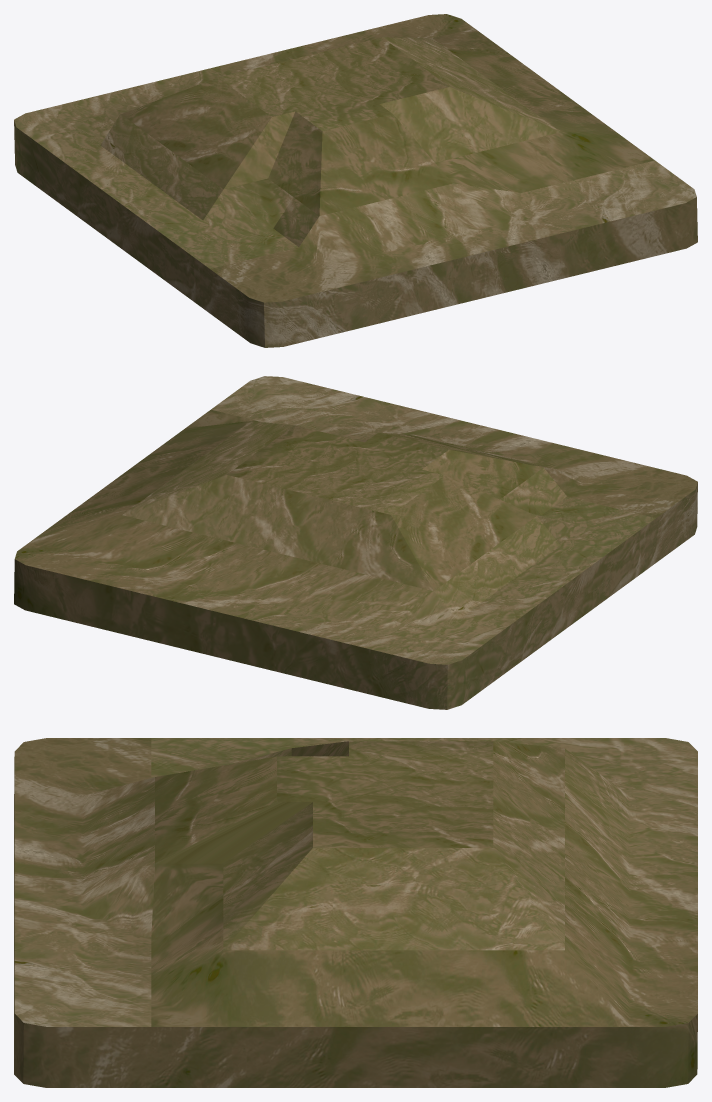
Rendered from Oil.fbx.
The picture shows the model from 3 angles, top to bottom: view 1: azimuth 30°, elevation 25°; view 2: azimuth 150°, elevation 25°; view 3: azimuth 270°, elevation 25°; orthographic projection. The views are drawn at different scales.
Visible parts, largest first — view 1: Grid; view 2: Grid; view 3: Grid.
Boxes of the visible parts, x1=… form: Grid: x1=14, y1=14, x2=697, y2=347; Grid: x1=14, y1=376, x2=697, y2=709; Grid: x1=14, y1=738, x2=697, y2=1087.
Bounding box in the file's own units: 513 × 121 × 513.
